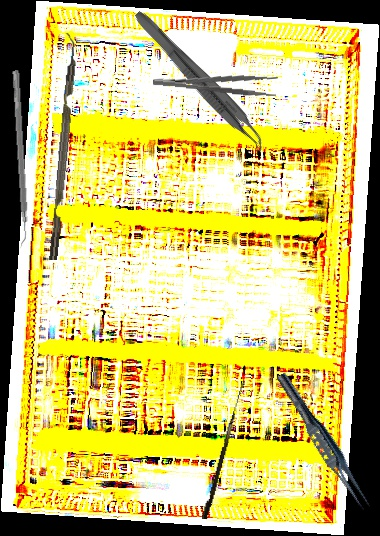Chopper: (38, 32, 81, 261)
Dressing Forceps: (152, 65, 278, 99)
Hook Surgical: (201, 381, 244, 521)
Spatula Surgical: (4, 70, 32, 249)
Tissue Forceps: (125, 8, 273, 156), (269, 369, 378, 515)
